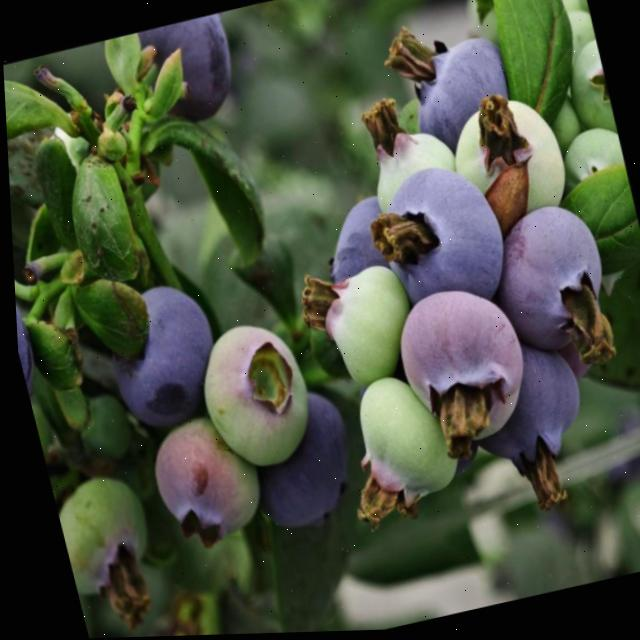RipeBlueBerry: (358, 148, 516, 316), (487, 199, 619, 364)
Semi-RipeBlueBerry: (381, 276, 540, 457), (182, 312, 321, 480)
UnripeBlueBerry: (45, 465, 160, 614)
